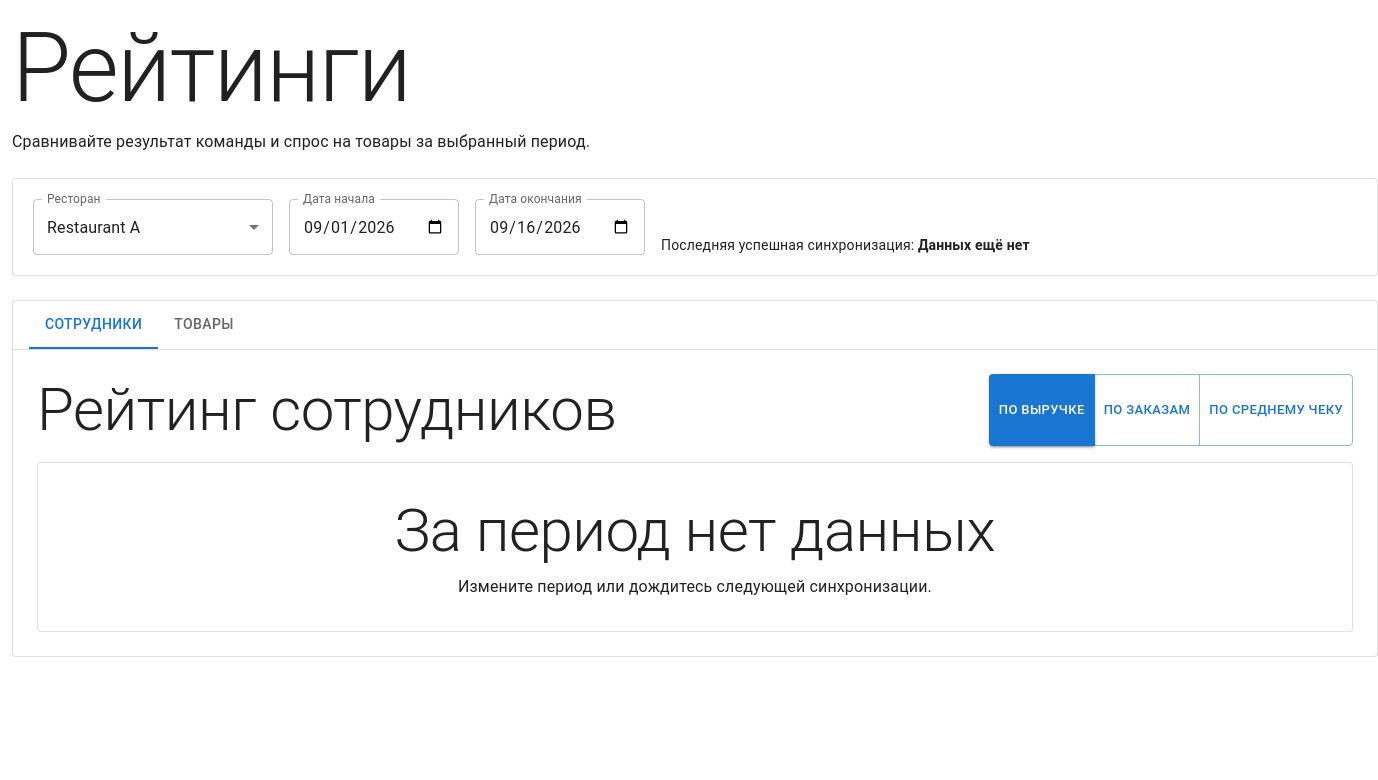
it: ReportsPage › does not request a report with a missing date
Expected: the heading "За период нет данных" is shown, x1=395 y1=495 x2=995 y2=566
Clear the date field labelled "Дата окончания" at (560, 227), box x1=475 y1=199 x2=645 y2=255
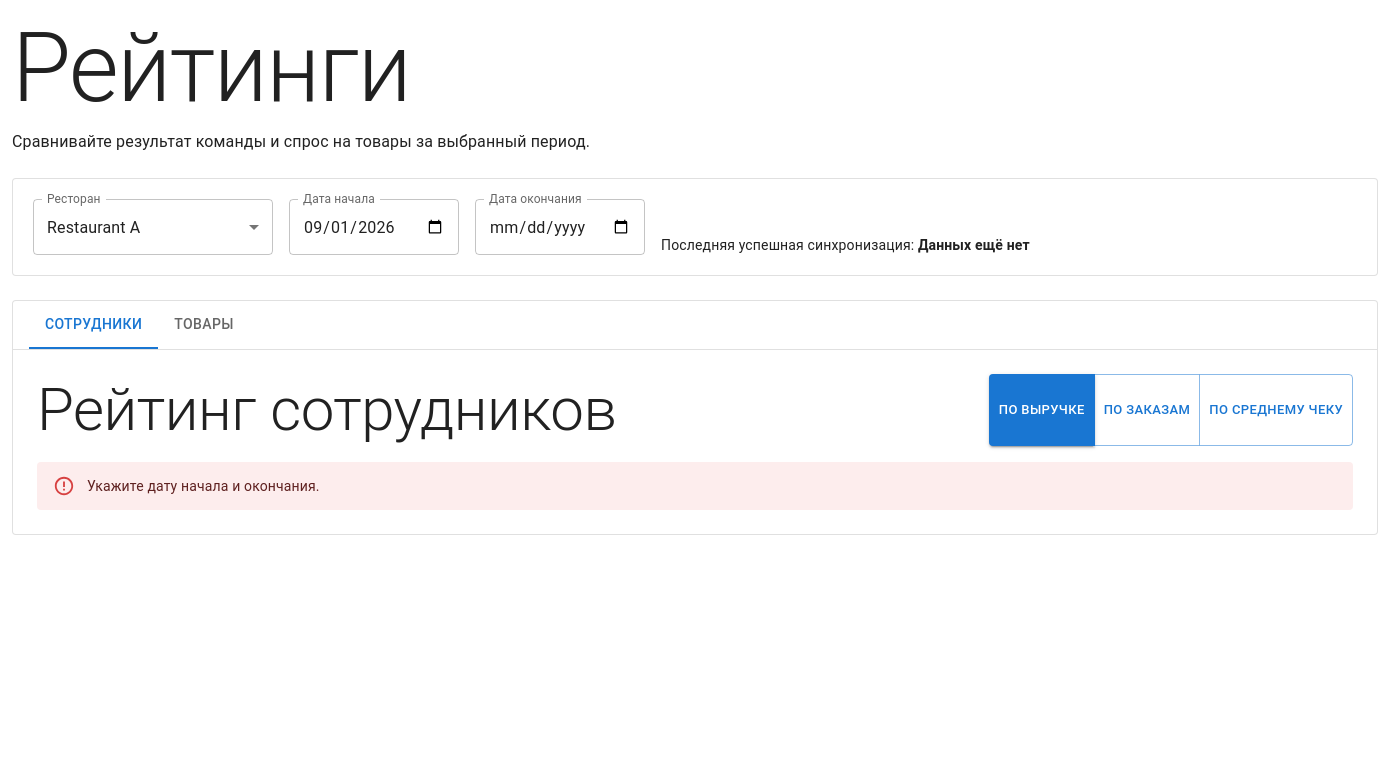
Now the message reads "Укажите дату начала и окончания.", box x1=87 y1=478 x2=320 y2=494
